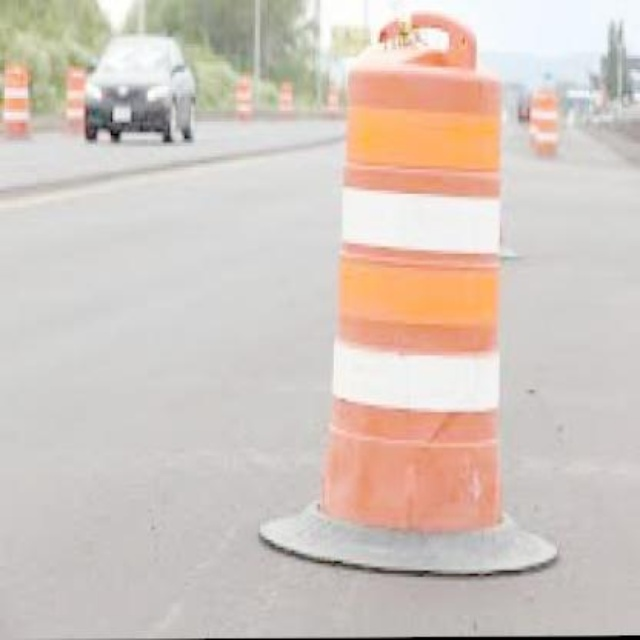obstacle: (334, 26, 502, 533)
